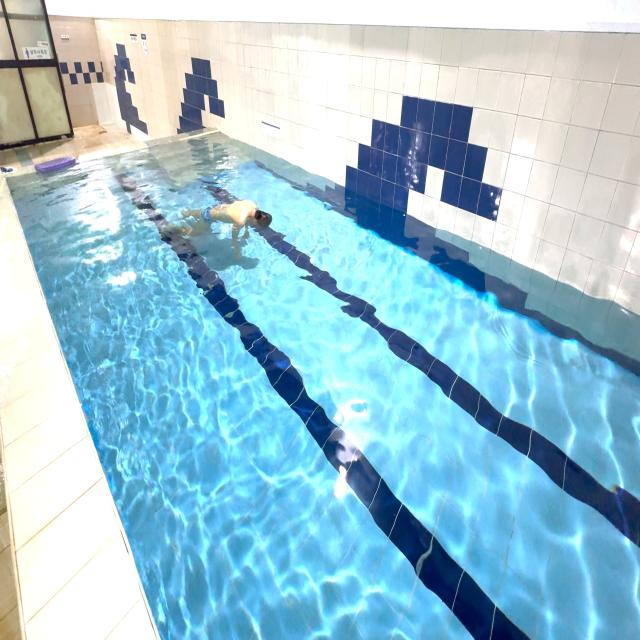Drowning: (162, 172, 280, 273)
